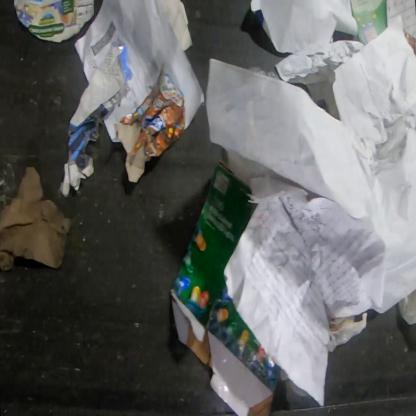cardboard: (168, 156, 283, 415), (113, 72, 185, 184), (13, 0, 96, 44), (326, 312, 368, 353), (350, 0, 387, 46)
soft_plastic: (397, 287, 416, 327)
